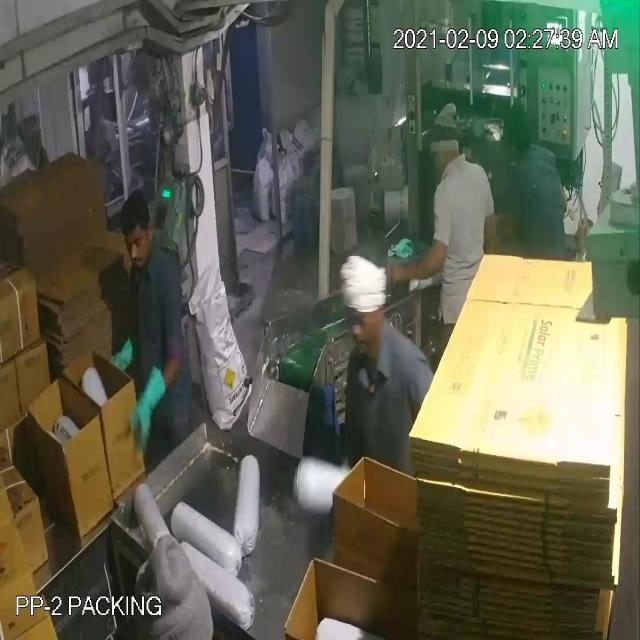Gloves: (43, 63, 416, 412)
